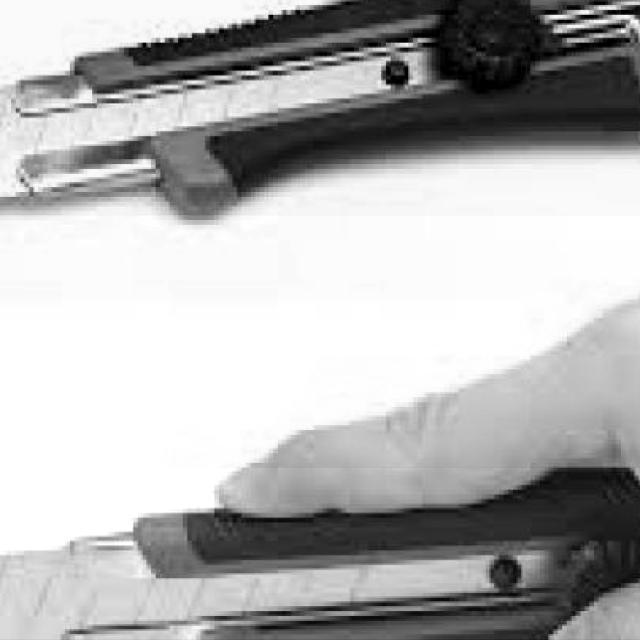estilete: (0, 0, 640, 216), (0, 468, 640, 639)
